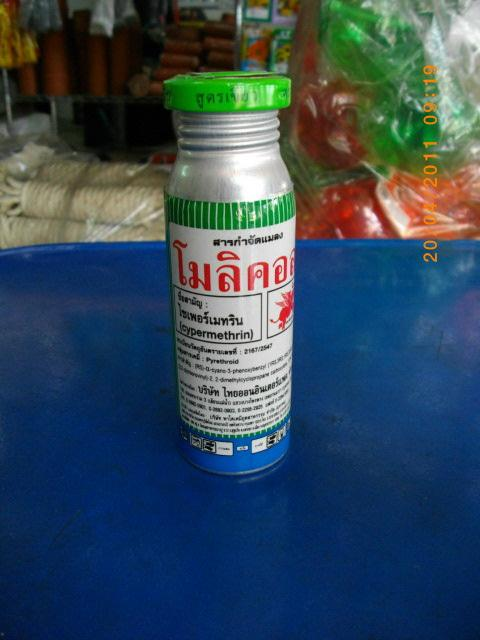Insecticide: (157, 61, 303, 483)
